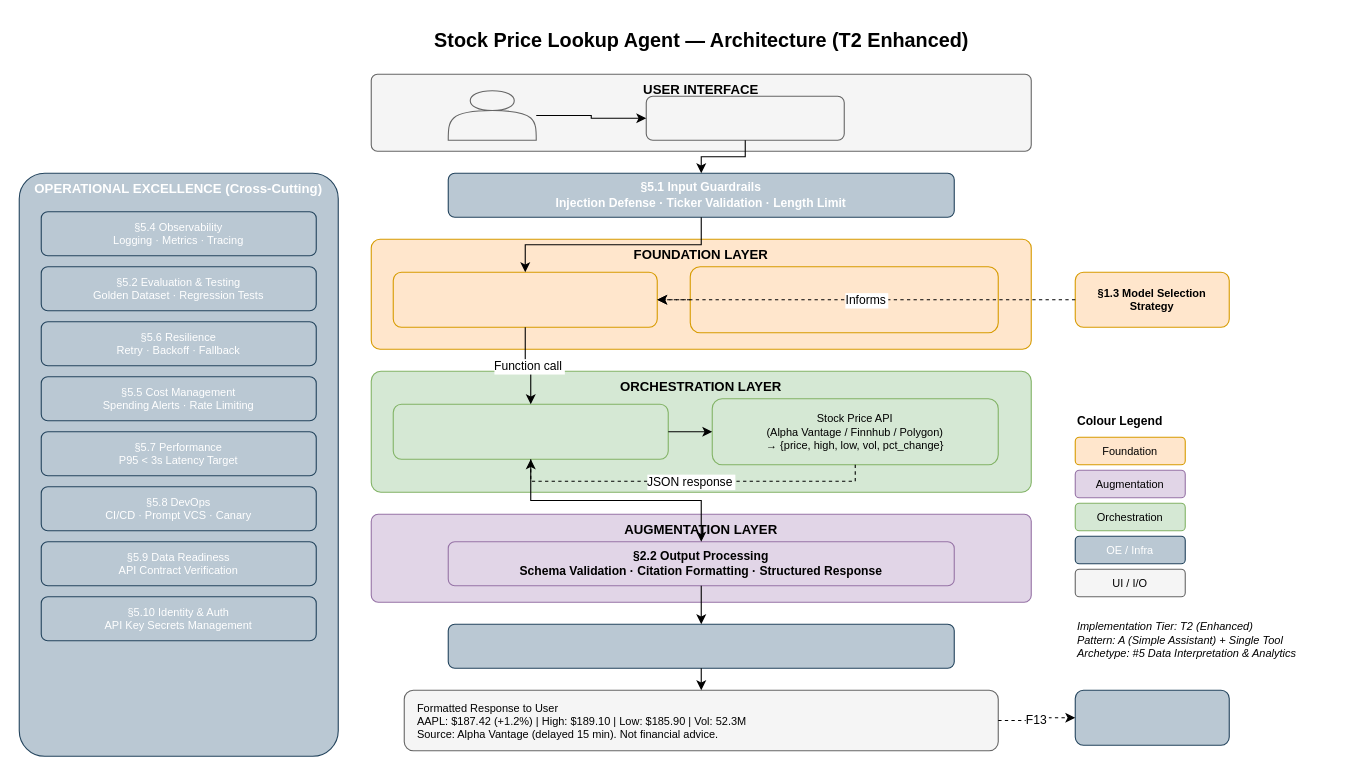
The diagram is 1359 pixels wide and 776 high, and some of its shapes have lost their labels. Each missing label, with the centre of its shape:
Chat UI / API Endpoint: point (744, 117)
User (Retail Investor): point (491, 115)
§1.1 Foundation Model (Claude Haiku / GPT-4o-mini): point (524, 299)
§1.2 Prompting System prompt · Format · Disclaimer Tool instructions · Few-shot: point (843, 299)
§3.4 Tool Use & Function Calling get_stock_price(ticker): point (530, 431)
§5.1 Output Guardrails Disclaimer Check · Numeric Sanity · Content Filter: point (700, 645)
§5.2 User Feedback (Thumbs up/down): point (1151, 717)
